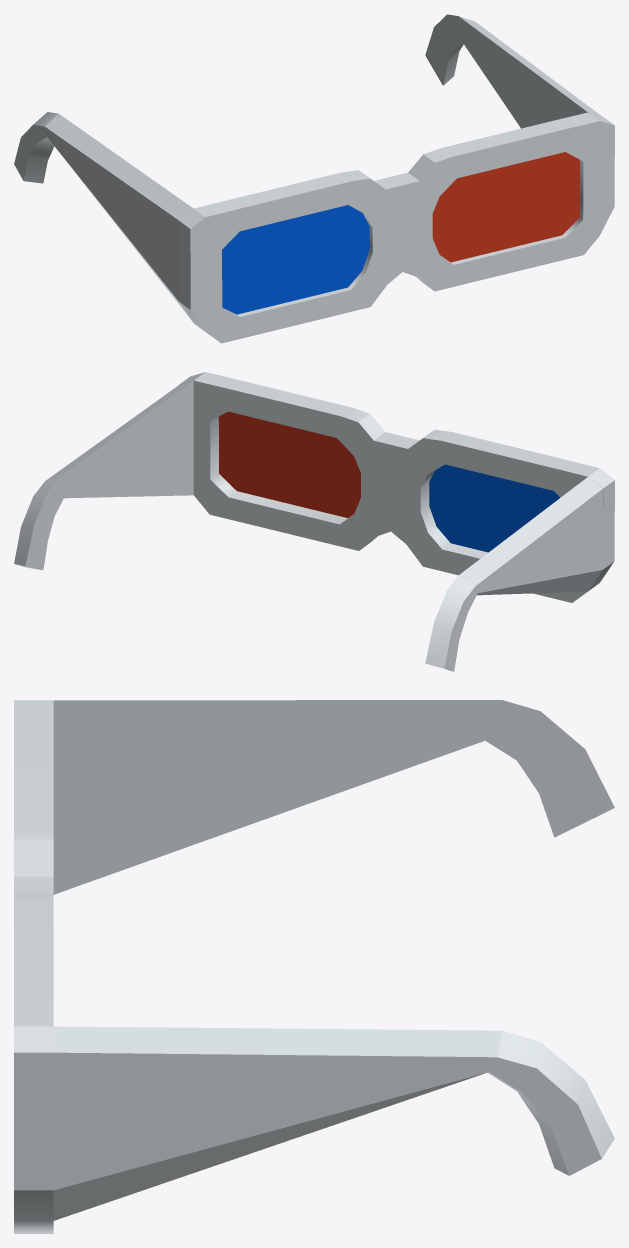
Rendered from Eyewear_12.fbx.
3 renders of one model, top to bottom at view 1: azimuth 30°, elevation 25°; view 2: azimuth 150°, elevation 25°; view 3: azimuth 270°, elevation 25°, orthographic. The views are drawn at different scales.
Visible parts, largest first — view 1: Eyewear_12; view 2: Eyewear_12; view 3: Eyewear_12.
Boxes of the visible parts, box(x1,y1,x2,y2) form: Eyewear_12: box(14, 14, 614, 343); Eyewear_12: box(14, 372, 614, 671); Eyewear_12: box(14, 700, 614, 1233).
Bounding box in the file's own units: 52.77 × 15.27 × 37.64.
